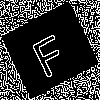F: (24, 25, 71, 80)
